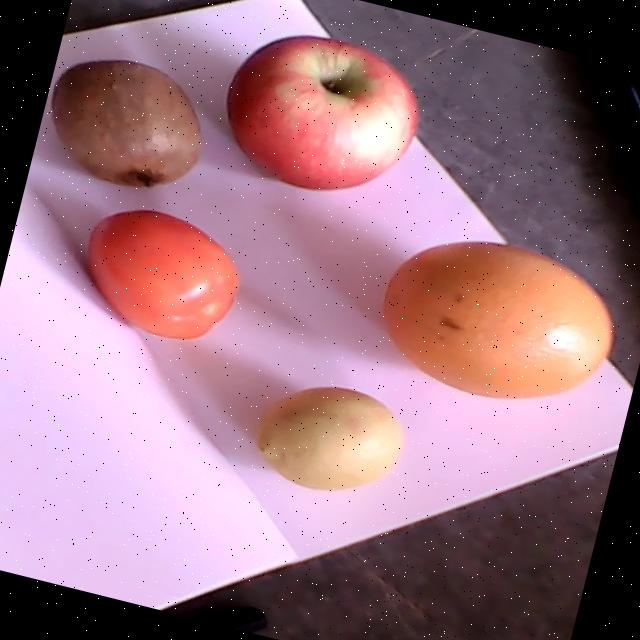apple: (226, 36, 416, 190)
kiwi: (50, 59, 200, 187)
lemon: (257, 387, 401, 488)
orange: (382, 241, 612, 398)
tomato: (87, 208, 238, 339)
